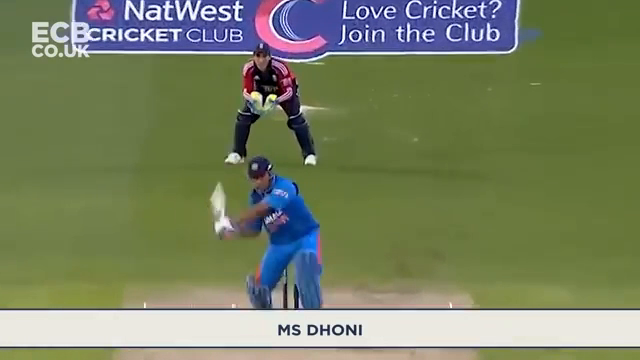Keeper: (227, 44, 319, 165)
batsman: (208, 157, 328, 307)
